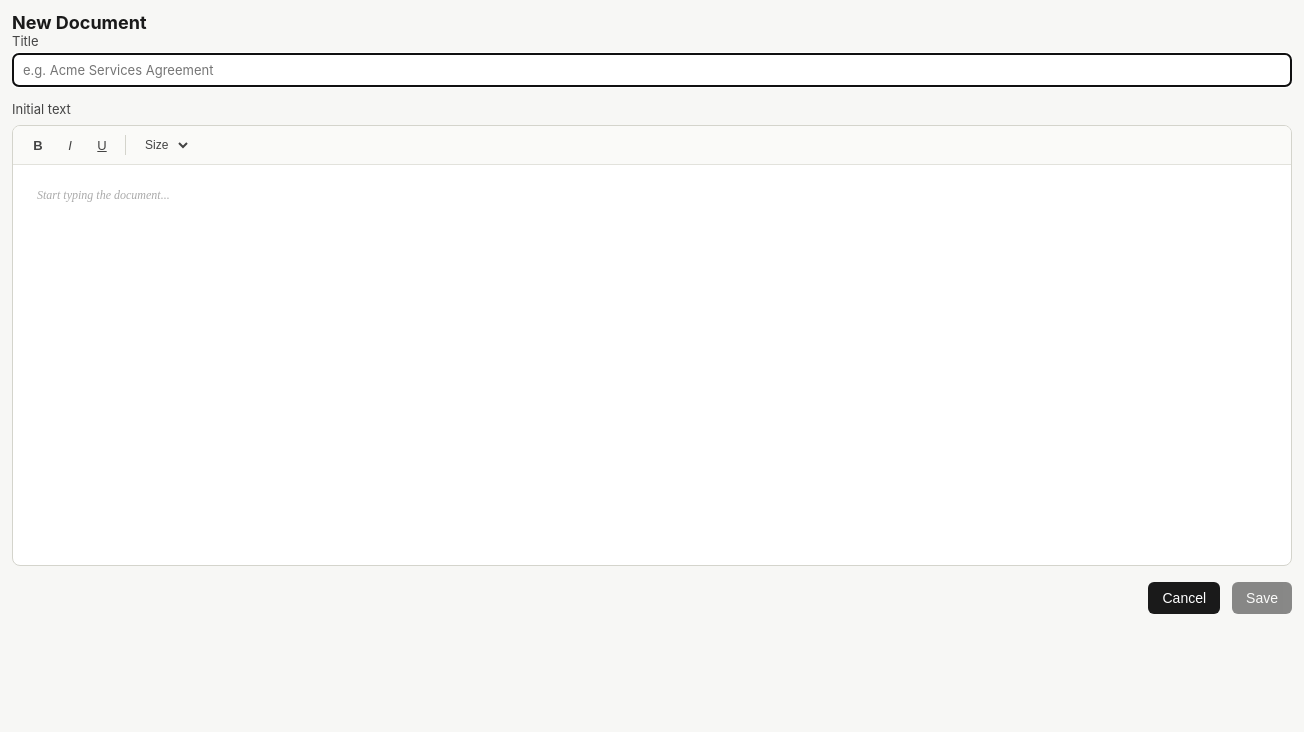
Test: NewDocumentForm › shows an error message when createDocument fails
Type "X" into the field with placeholder "e.g. Acme Services Agreement". click: (652, 70)
box: [12, 53, 1292, 87]
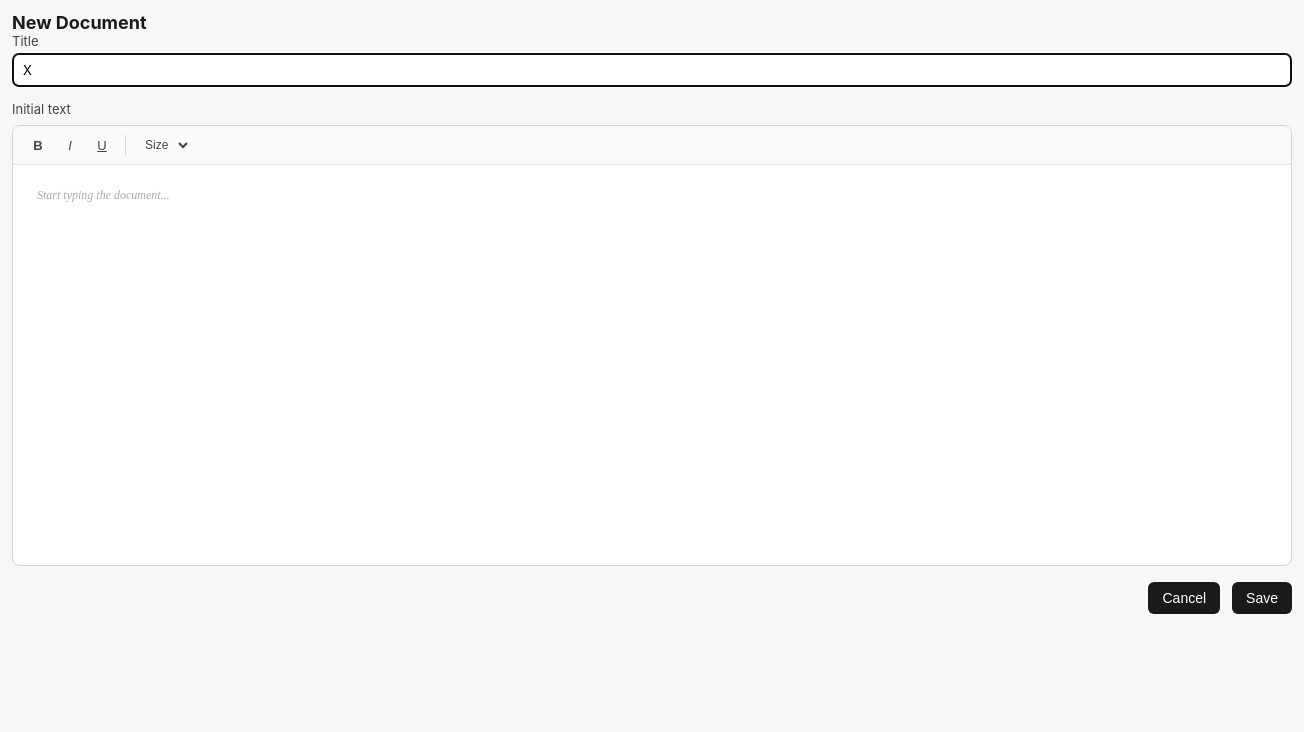
Click the button "Save". click: click(1262, 598)
box: [1232, 582, 1292, 614]
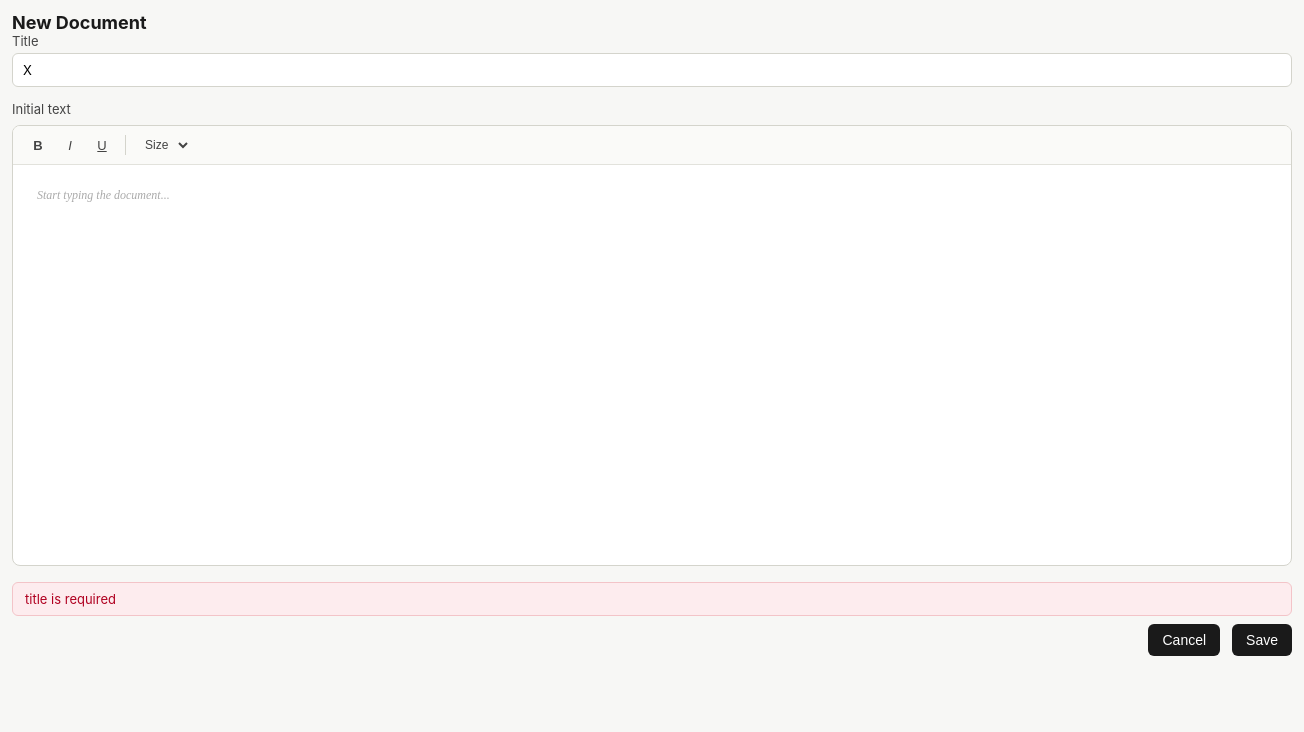
Now the text "title is required" is shown, box [12, 582, 1292, 616]
